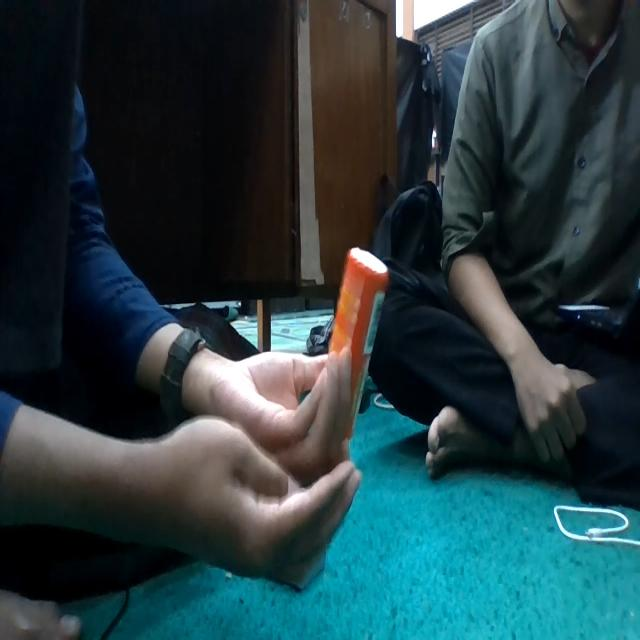Boncabe: (328, 248, 388, 438)
Powerbank: (284, 548, 326, 590)
